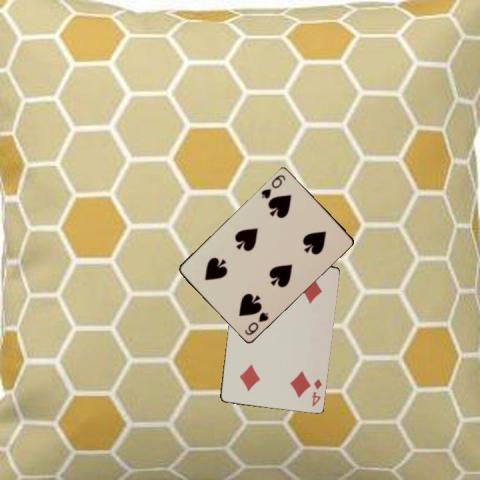4d: (309, 375, 322, 408)
6s: (258, 171, 287, 200), (242, 308, 270, 336)
